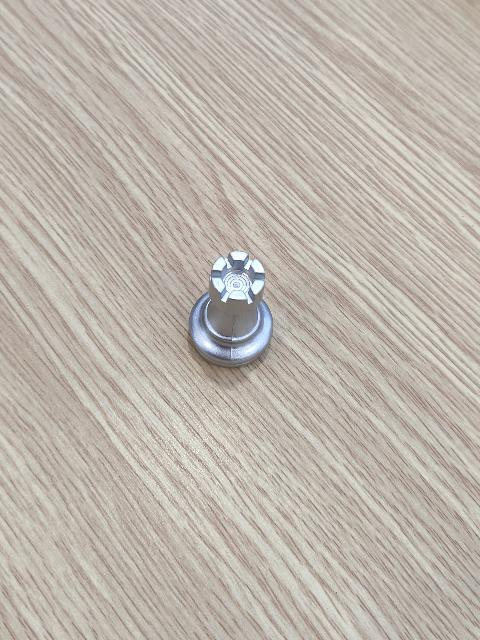white_rook: (188, 249, 272, 365)
